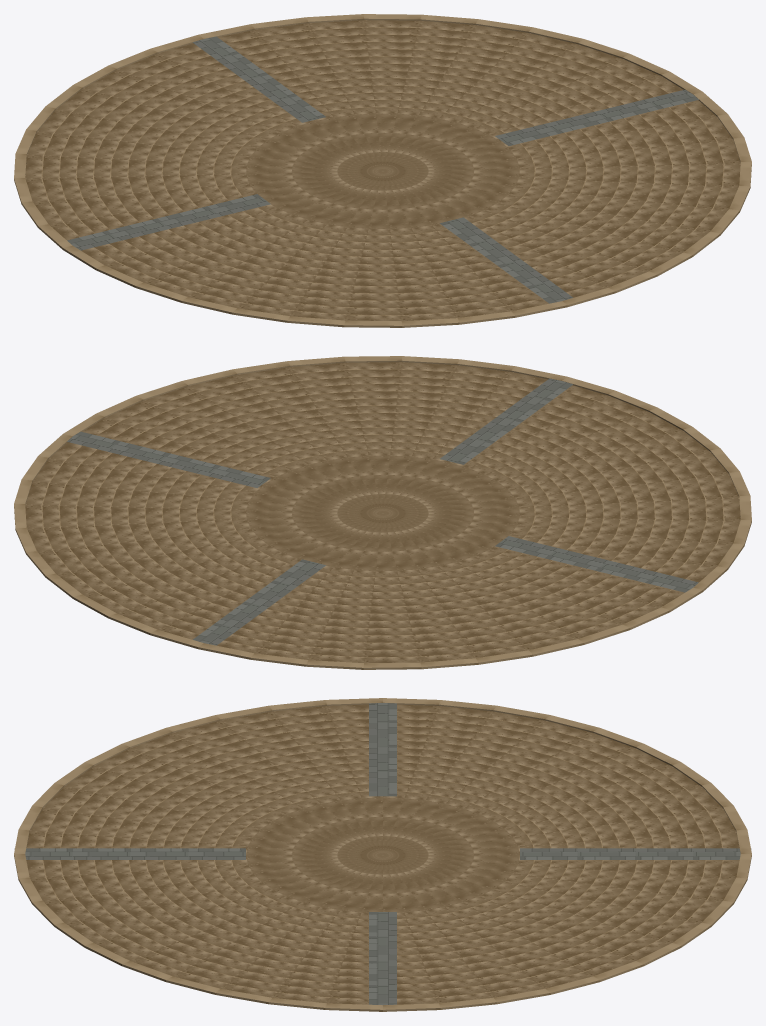
Rendered from city_large_base.glb.
The picture shows the model from 3 angles, top to bottom: view 1: azimuth 30°, elevation 25°; view 2: azimuth 150°, elevation 25°; view 3: azimuth 270°, elevation 25°; orthographic projection.
Parts seen in each view (by area): view 1: ae_sand_city_large_base; view 2: ae_sand_city_large_base; view 3: ae_sand_city_large_base.
Boxes of the visible parts, x1=… form: ae_sand_city_large_base: x1=14, y1=14, x2=751, y2=327; ae_sand_city_large_base: x1=14, y1=356, x2=751, y2=669; ae_sand_city_large_base: x1=14, y1=698, x2=751, y2=1011.
Bounding box in the file's own units: 1.97 × 0.00602 × 1.97.
1 material, 1 textured.
